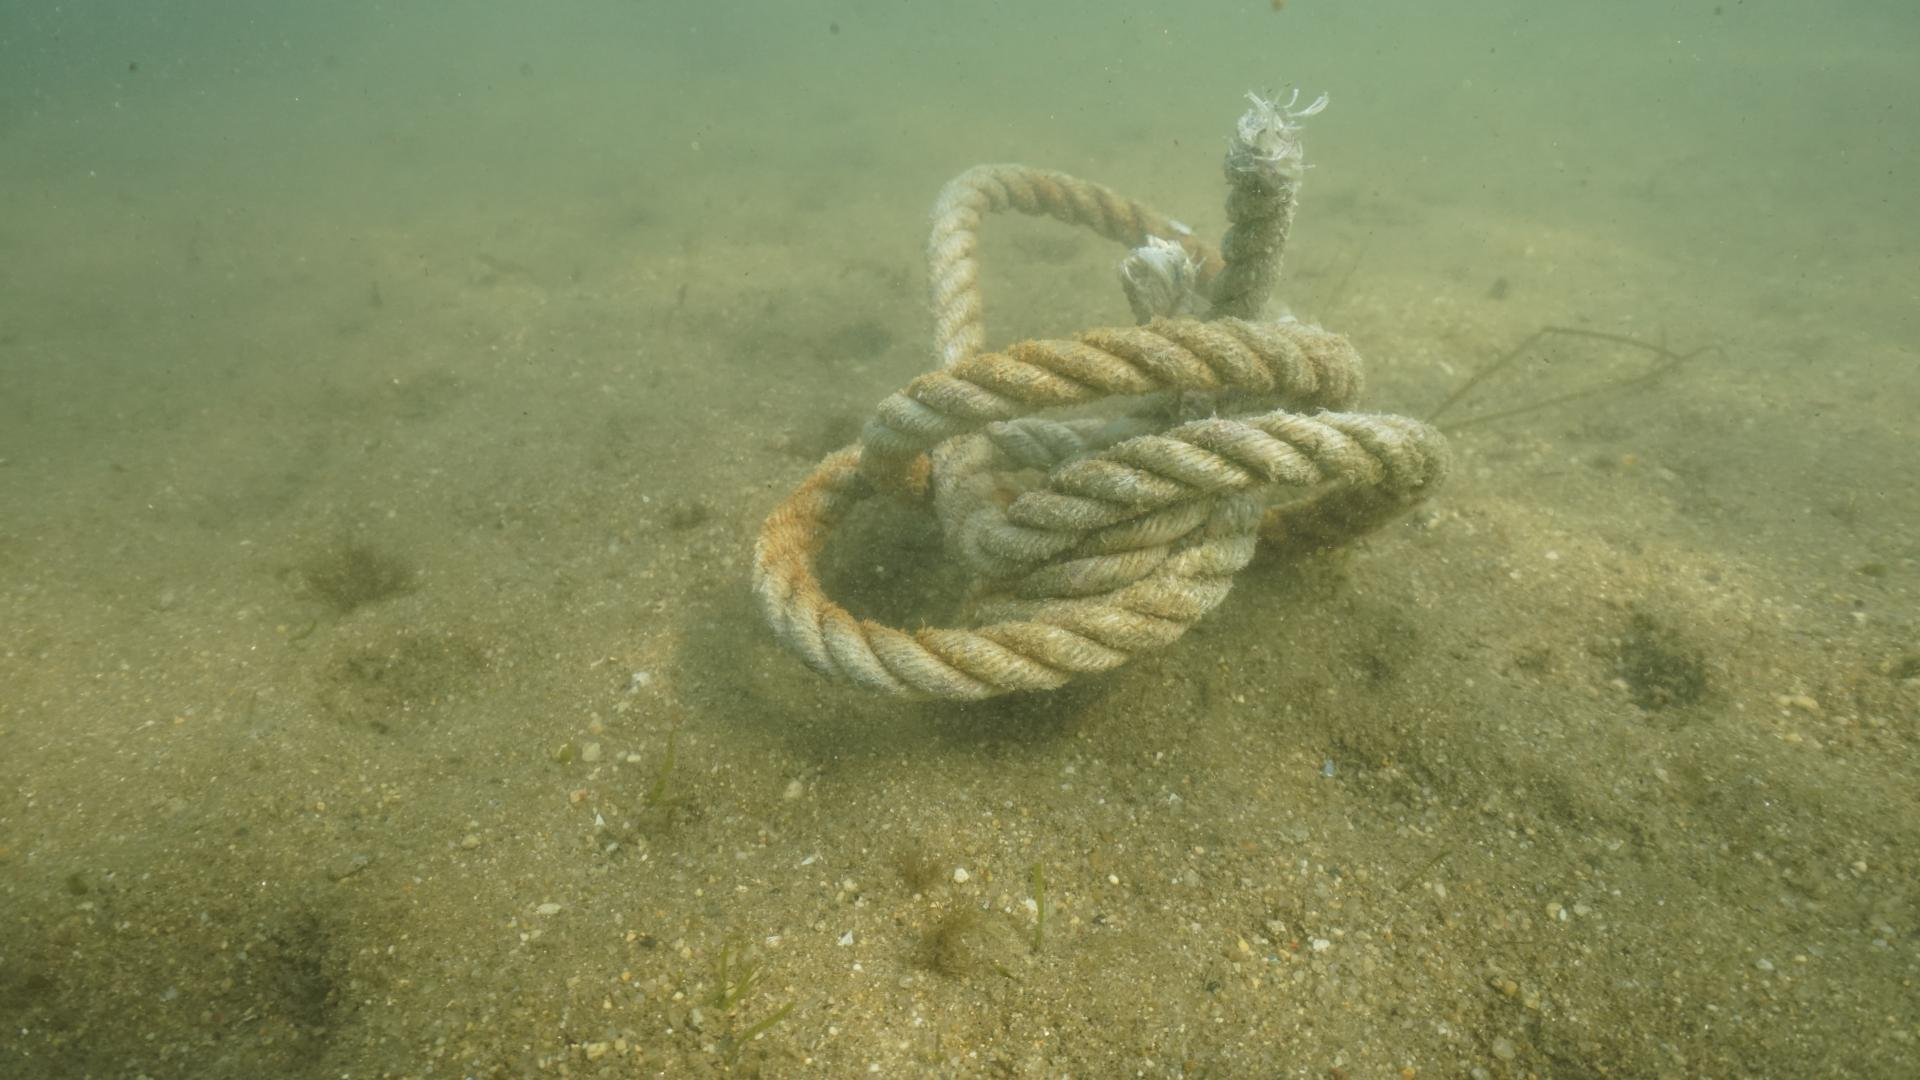bundle of ropes: (744, 137, 1458, 707)
